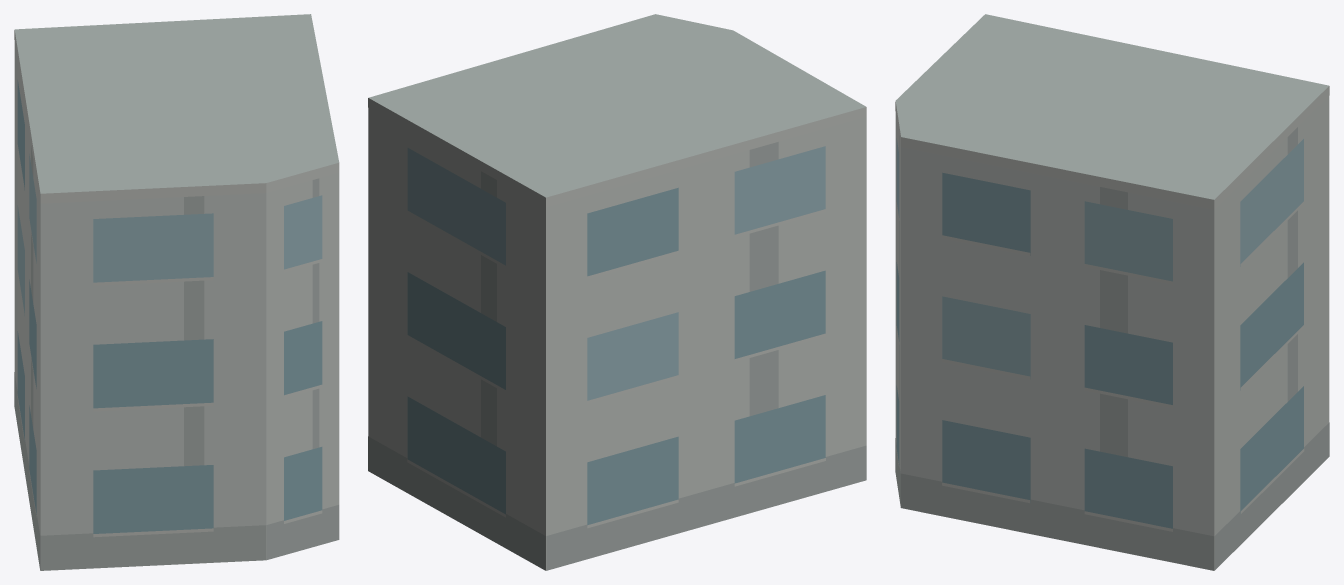
File: residential-4958bbb2-04cc-44b2-a666-c67214b091a8.glb
The picture shows the model from 3 angles, left to right: view 1: azimuth 30°, elevation 25°; view 2: azimuth 150°, elevation 25°; view 3: azimuth 270°, elevation 25°; orthographic projection.
Parts seen in each view (by area): view 1: residential-4958bbb2-04cc-44b2-a666-c67214b091a8.tmp; view 2: residential-4958bbb2-04cc-44b2-a666-c67214b091a8.tmp; view 3: residential-4958bbb2-04cc-44b2-a666-c67214b091a8.tmp.
Part boxes in pixels (x1,y1,x2,y2): residential-4958bbb2-04cc-44b2-a666-c67214b091a8.tmp: (14,14,339,570); residential-4958bbb2-04cc-44b2-a666-c67214b091a8.tmp: (368,14,866,570); residential-4958bbb2-04cc-44b2-a666-c67214b091a8.tmp: (895,14,1329,570).
Size of the model in its own units: 9.84 by 9.15 by 9.71.
